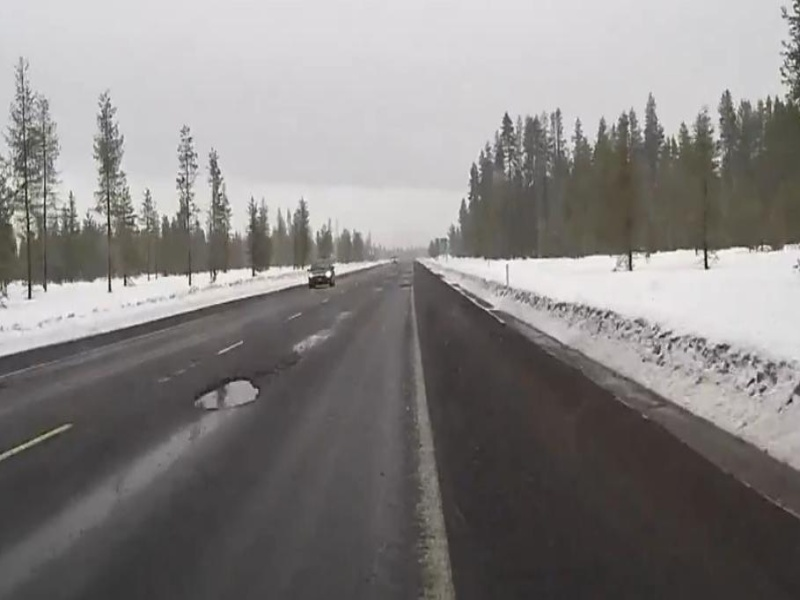pothole: (187, 373, 270, 412)
